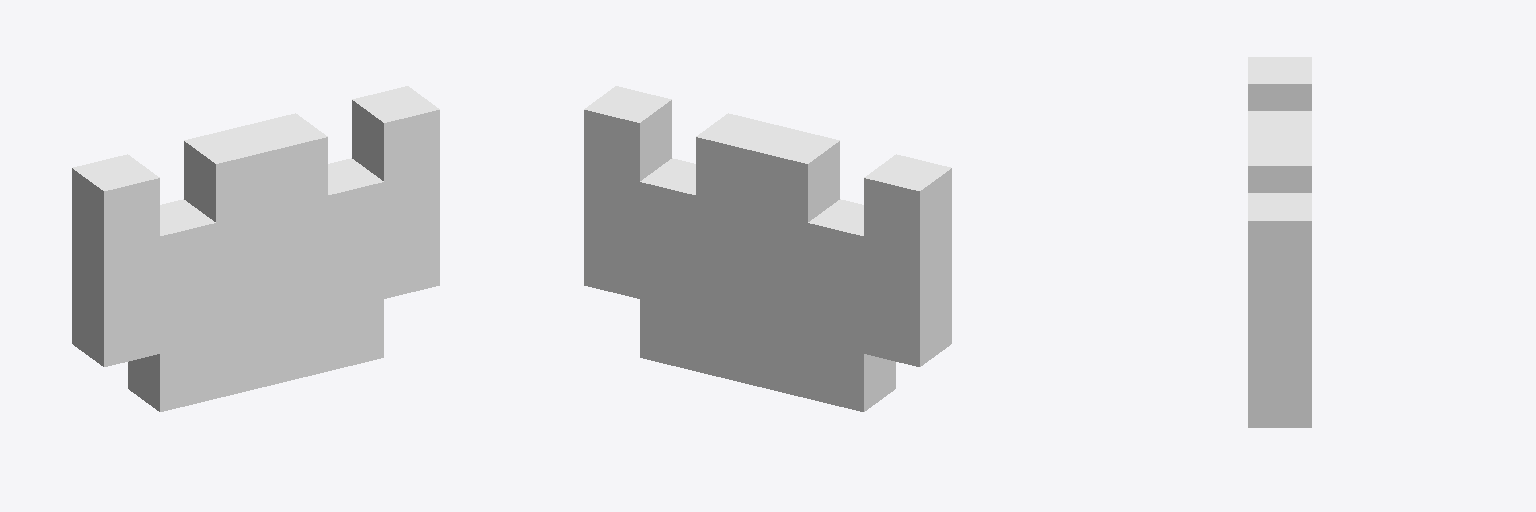
Rendered from chest_lock.obj.
3 renders of one model, left to right at view 1: azimuth 30°, elevation 25°; view 2: azimuth 150°, elevation 25°; view 3: azimuth 270°, elevation 25°, orthographic.
Visible parts, largest first — view 1: chest_lock; view 2: chest_lock; view 3: chest_lock.
Part boxes in pixels (x1,y1,x2,y2): chest_lock: (72,86,439,411); chest_lock: (584,86,951,411); chest_lock: (1248,57,1311,427).
Size of the model in its own units: 8.9 by 5.94 by 1.48.